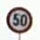limite 50: (5, 5, 32, 33)
